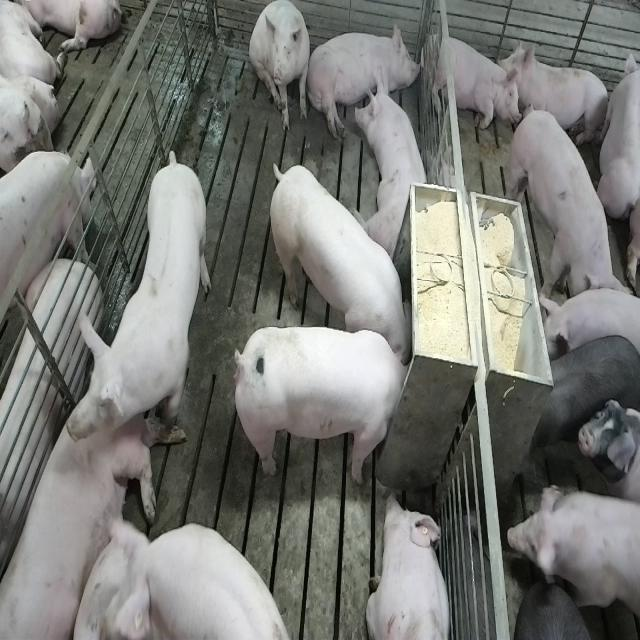Feeding: (265, 160, 412, 362), (240, 324, 418, 484)
Lateral_lying: (4, 378, 159, 640), (306, 21, 424, 140)
Sitting: (250, 2, 312, 134)
Standing: (74, 152, 212, 472), (509, 102, 624, 311), (506, 482, 638, 640), (129, 519, 293, 639), (0, 153, 94, 349), (532, 332, 638, 450), (537, 286, 640, 364), (514, 583, 632, 640)
Sternal_lying: (357, 69, 432, 259), (366, 490, 454, 640), (506, 39, 612, 153), (426, 31, 516, 133)
